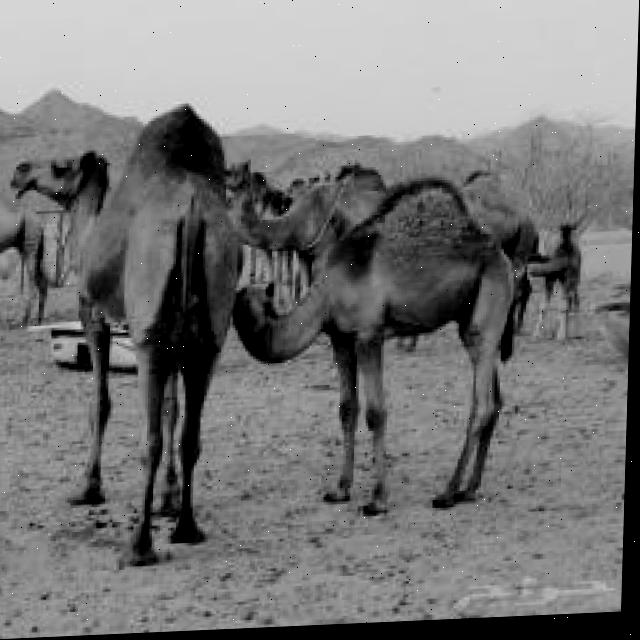Camel: (0, 98, 245, 573), (214, 153, 526, 521)
